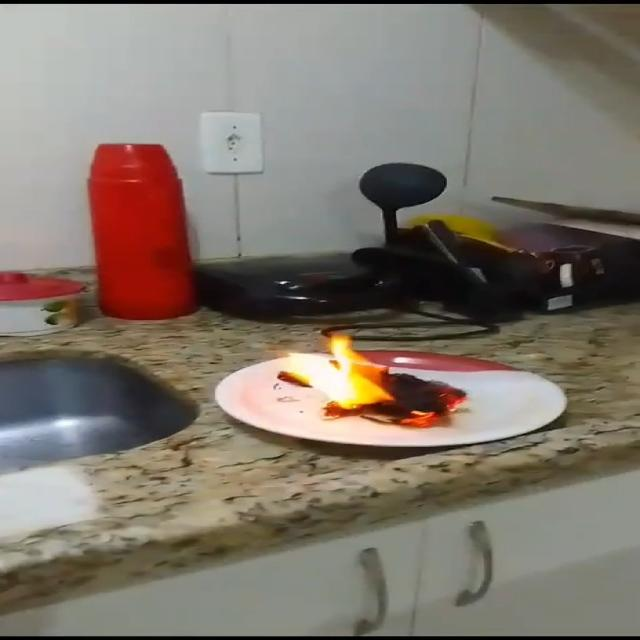fogo-ypXI: (276, 331, 473, 428)
